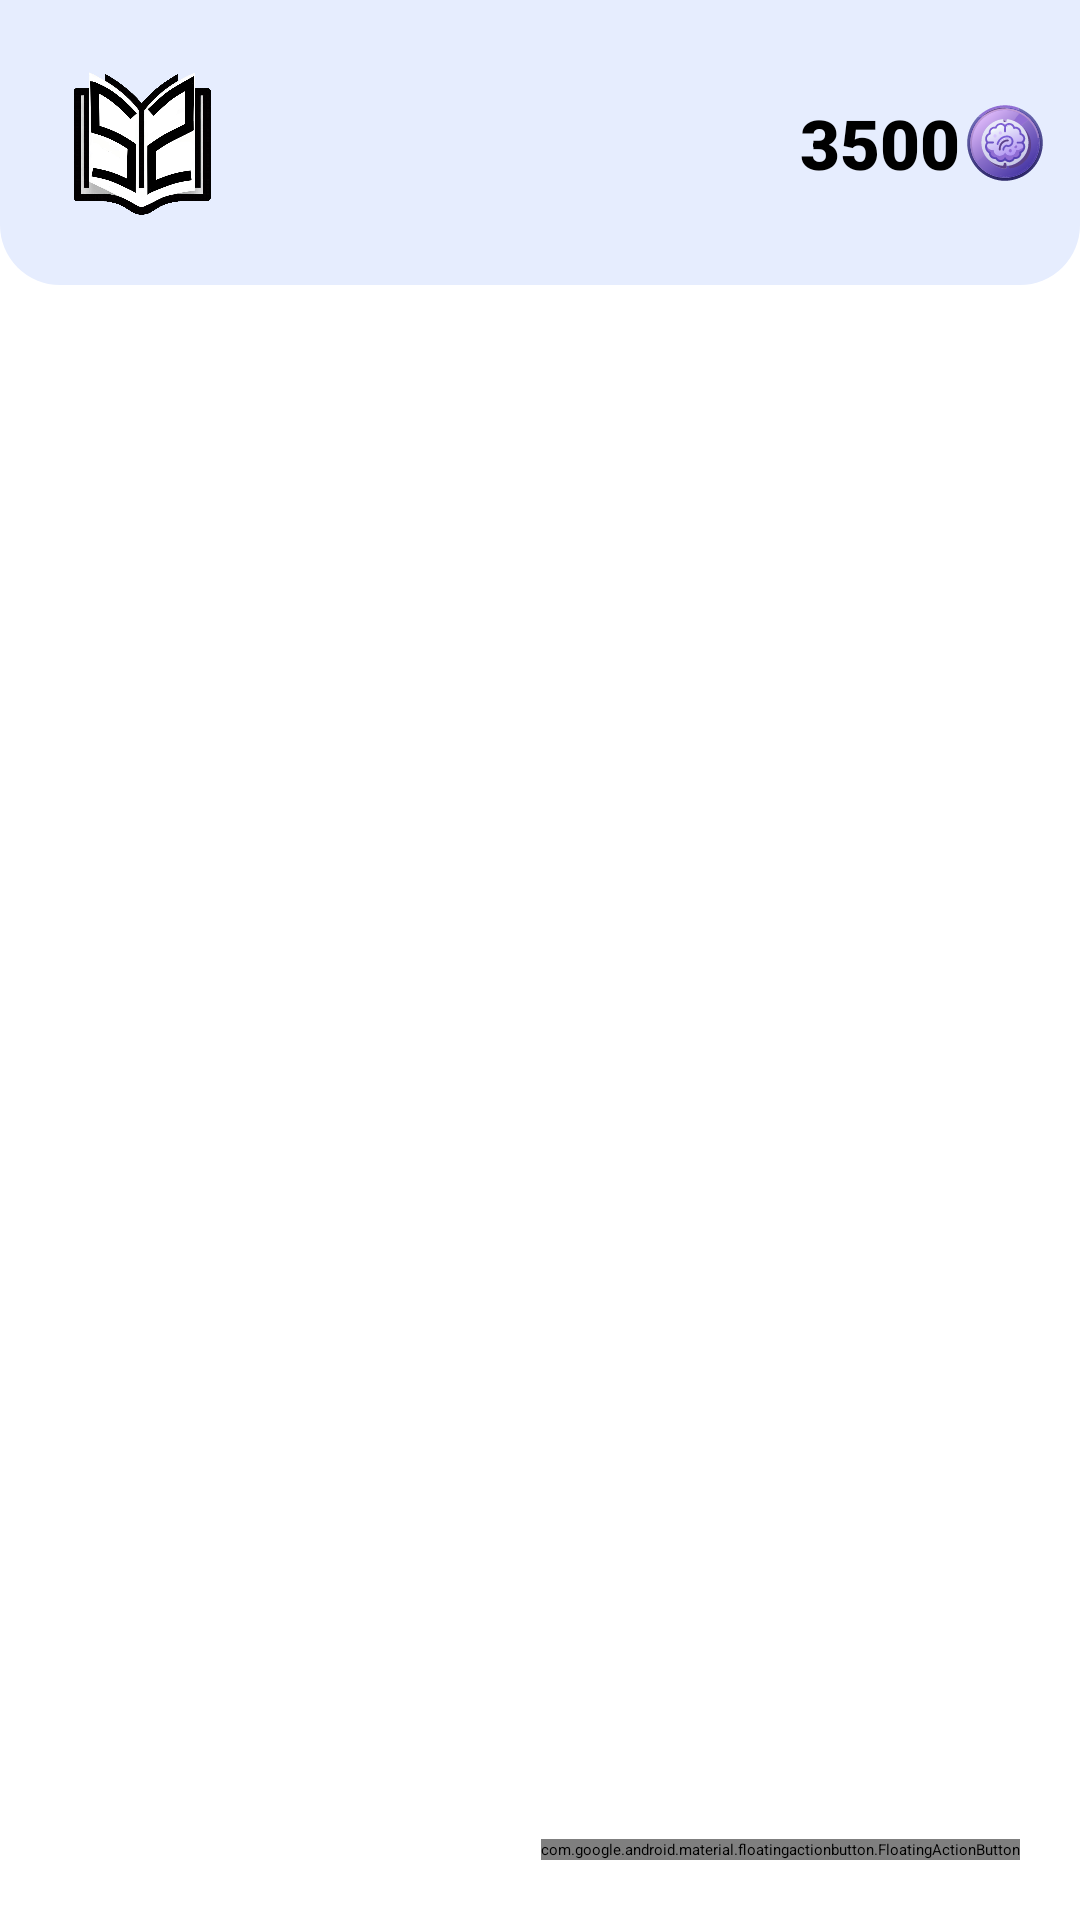

Named icons in this screenshot (1080 x 1920) and their centers, [x,y]:
coinvector: [1005,143]
studyshare: [142,144]
